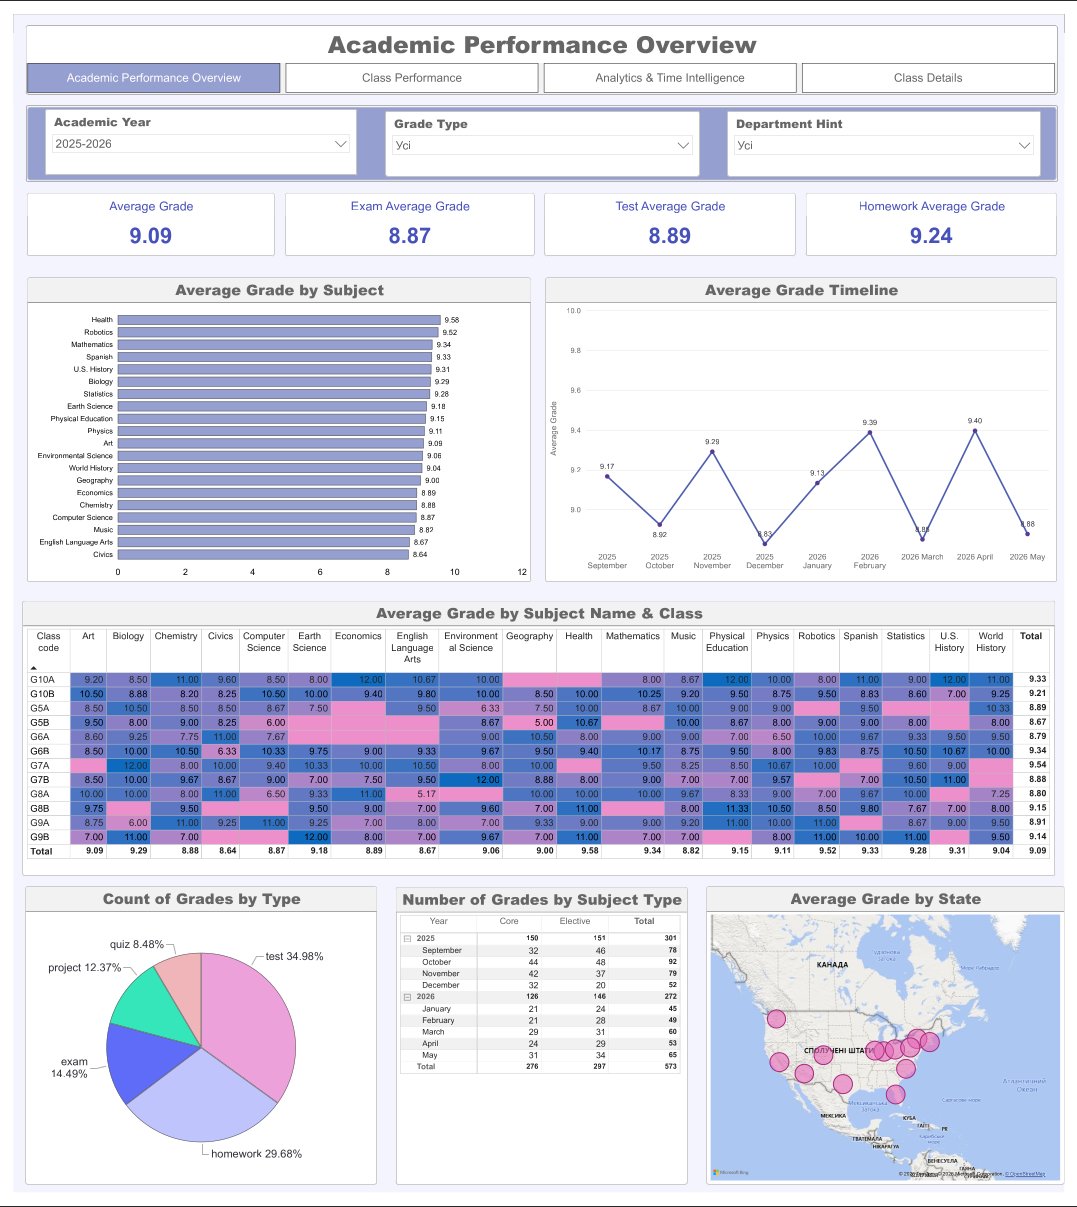

The dashboard page shown, as its layout file describes it:
{"tool":"powerbi","page":{"name":"Academic Performance Overview","canvas":[1910,2140],"ordinal":0},"visuals":[{"type":"card","title":"Homework Average Grade","fields":{"Values":["Avg(grades.grade_value)"]},"box":[1439.7,323.5,455.9,115],"z":0},{"type":"card","title":"Exam Average Grade","fields":{"Values":["Avg(grades.grade_value)"]},"box":[493.6,323.5,452.9,115],"z":1000},{"type":"card","title":"Test Average Grade","fields":{"Values":["Avg(grades.grade_value)"]},"box":[965.2,323.5,455.9,115],"z":2000},{"type":"card","title":"Average Grade","fields":{"Values":["Avg(grades.grade_value)"]},"box":[25,323.5,450,115],"z":3000},{"type":"clusteredBarChart","title":"Average Grade by Subject","fields":{"Category":["subjects.subject_name"],"Y":["Avg(grades.grade_value)"]},"box":[25.5,478.4,915.7,552.9],"z":4000},{"type":"pivotTable","title":"Average Grade by Subject Name & Class","fields":{"Columns":["subjects.subject_name"],"Values":["Avg(grades.grade_value)"],"Rows":["classes.class_code"]},"box":[16.7,1065,1876.7,500],"z":5000},{"type":"lineChart","title":"Average Grade Timeline","fields":{"Y":["Avg(grades.grade_value)"],"Category":["Calendar.Year Ієрархія.Year","Calendar.Year Ієрархія.Month_Name"]},"box":[966.7,478.4,929.4,552.9],"z":6000},{"type":"pieChart","title":"Count of Grades by Type","fields":{"Category":["grades.grade_type"],"Y":["CountNonNull(grades.grade_value)"]},"box":[21.6,1584.3,639.2,541.2],"z":7000},{"type":"pivotTable","title":"Number of Grades by Subject Type","fields":{"Rows":["Calendar.Year Ієрархія.Year","Calendar.Year Ієрархія.Month_Name"],"Values":["CountNonNull(grades.grade_value)"],"Columns":["subjects.subject_type"]},"box":[694.8,1585,530,540],"z":8000},{"type":"map","title":"Average Grade by State","fields":{"Category":["students.state"],"Size":["Avg(grades.grade_value)"]},"box":[1258.8,1584.3,651,541.2],"z":9000},{"type":"pageNavigator","title":"Academic Performance Overview ","box":[23.4,20,1874,125],"z":10000},{"type":"shape","box":[23.2,164.7,1874.5,139.2],"z":11000},{"type":"slicer","fields":{"Values":["grades.grade_type"]},"box":[676.5,174.5,570.6,119.6],"z":12000},{"type":"slicer","fields":{"Values":["subjects.department_hint"]},"box":[1297.2,175,569.4,119.4],"z":13000},{"type":"slicer","fields":{"Values":["periods.academic_year"]},"box":[58.3,172.2,566.7,119.4],"z":14000}]}

Visuals, with their boxes in screenshot pixels (x1, y1, x2, y2), scaled from the page's 1910x2140 canvas onto the 1077x1207 screenshot:
"Homework Average Grade" card: box(812, 182, 1069, 247)
"Exam Average Grade" card: box(278, 182, 534, 247)
"Test Average Grade" card: box(544, 182, 801, 247)
"Average Grade" card: box(14, 182, 268, 247)
"Average Grade by Subject" clusteredBarChart: box(14, 270, 531, 582)
"Average Grade by Subject Name & Class" pivotTable: box(9, 601, 1068, 883)
"Average Grade Timeline" lineChart: box(545, 270, 1069, 582)
"Count of Grades by Type" pieChart: box(12, 894, 373, 1199)
"Number of Grades by Subject Type" pivotTable: box(392, 894, 691, 1199)
"Average Grade by State" map: box(710, 894, 1076, 1199)
"Academic Performance Overview " pageNavigator: box(13, 11, 1070, 82)
shape: box(13, 93, 1070, 171)
slicer - grades.grade_type: box(381, 98, 703, 166)
slicer - subjects.department_hint: box(731, 99, 1053, 166)
slicer - periods.academic_year: box(33, 97, 352, 164)
